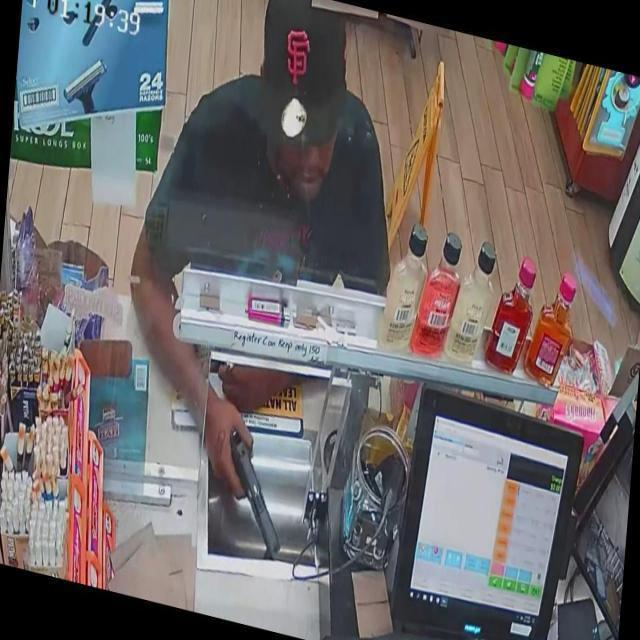pistol: (223, 412, 289, 574)
